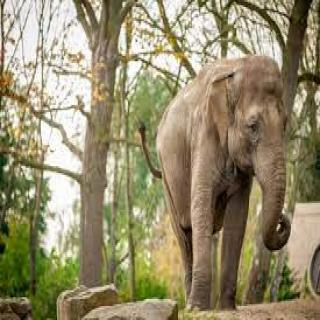Elephant: (137, 56, 291, 316)
